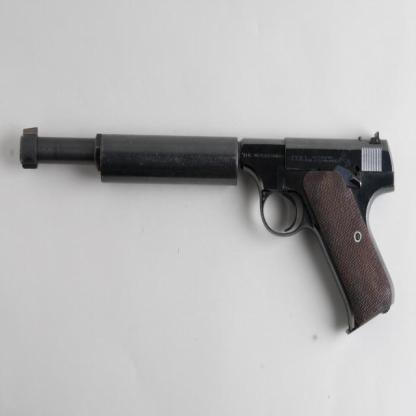weapon: (18, 124, 396, 336)
